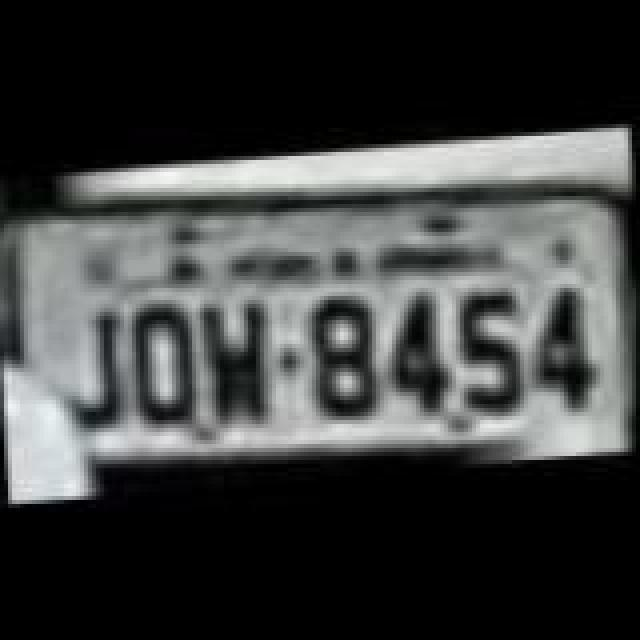4: (520, 278, 612, 422), (372, 288, 456, 420)
5: (454, 284, 534, 416)
8: (300, 292, 384, 420)
J: (54, 306, 134, 434)
O: (124, 298, 208, 430)
W: (198, 296, 278, 432)
